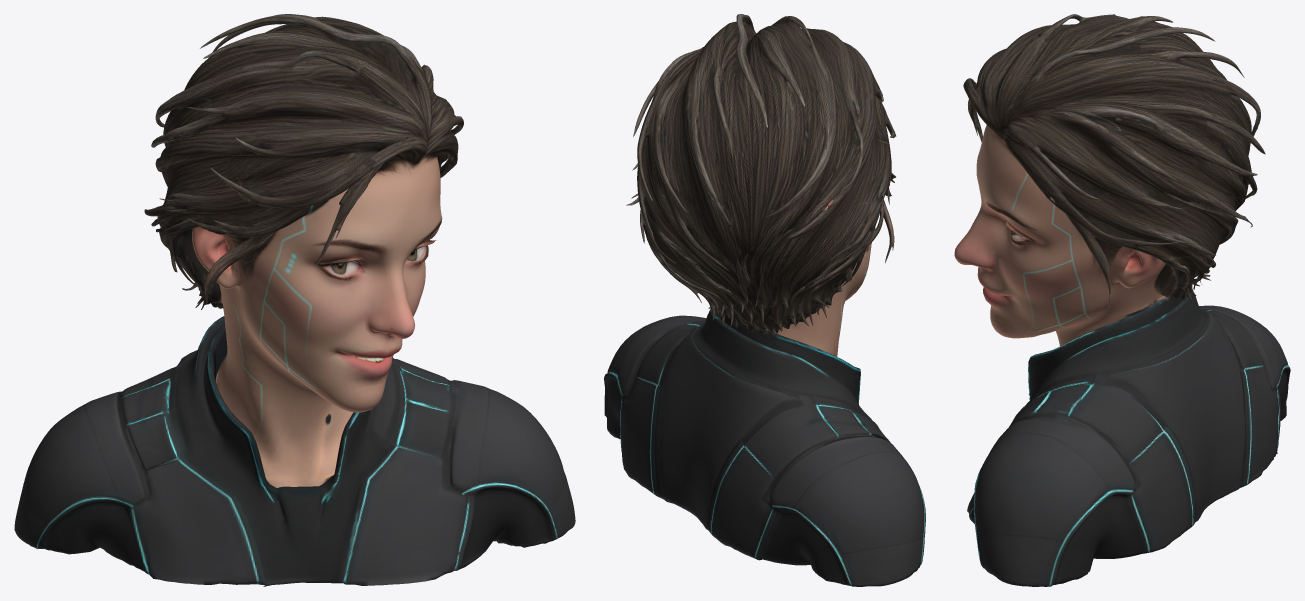
The model's file is tripo_convert_9f5e7633-adc3-4bde-a675-fb9715bcdbad.fbx.
The picture shows the model from 3 angles, left to right: view 1: azimuth 30°, elevation 25°; view 2: azimuth 150°, elevation 25°; view 3: azimuth 270°, elevation 25°; orthographic projection. The views are drawn at different scales.
Visible parts, largest first — view 1: tripo_node_9f5e7633; view 2: tripo_node_9f5e7633; view 3: tripo_node_9f5e7633.
Boxes of the visible parts, x1,y1,x2,y2 form: tripo_node_9f5e7633: [14, 14, 575, 586]; tripo_node_9f5e7633: [604, 14, 925, 586]; tripo_node_9f5e7633: [954, 14, 1290, 586].
Bounding box in the file's own units: 0.891 × 0.9758 × 0.6374.
Materials: 1 (1 with a texture image).
